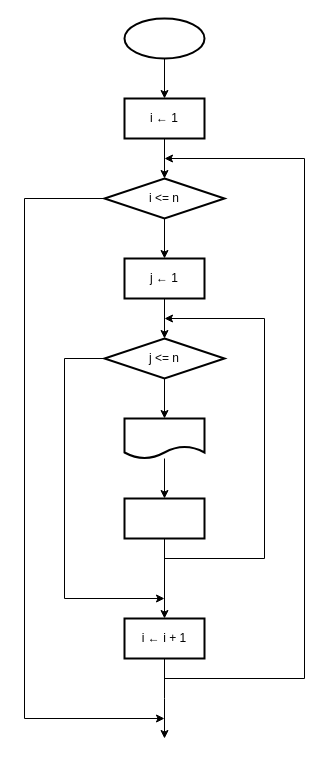
Some shapes in this 330 by 764 pixel diagram are drawn without their labels. Here are the shapes that lost their labels. From the top down, the box of each, then its label:
(123, 17, 205, 59): Start
(123, 417, 205, 459): A ← A + B
(123, 497, 205, 539): j ← j + 1
